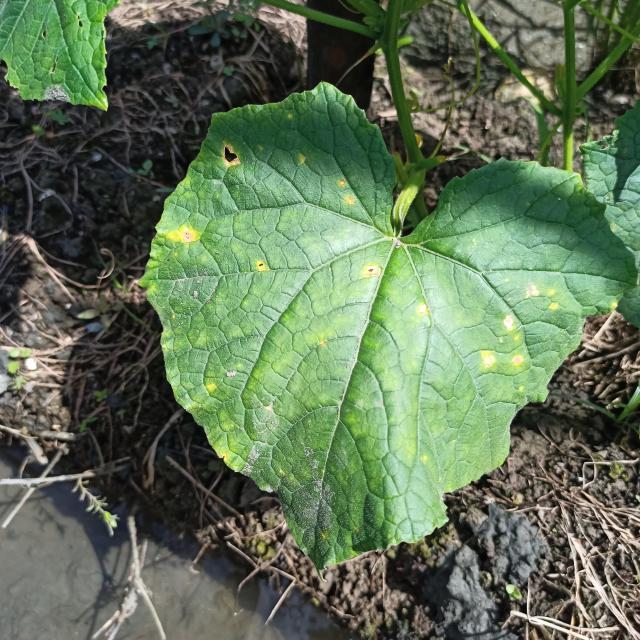disease_cucumber: (480, 284, 560, 367), (165, 225, 202, 246), (336, 177, 356, 210), (220, 143, 241, 168), (360, 262, 379, 278), (416, 302, 428, 316), (254, 261, 266, 273)
